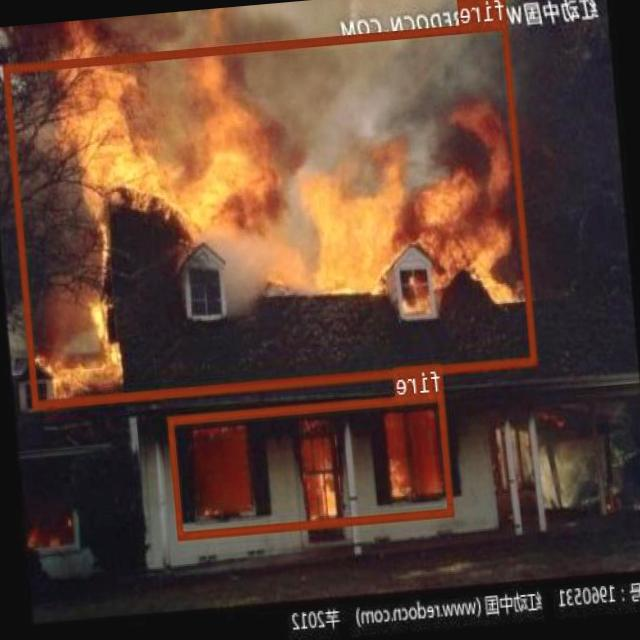fire: (4, 20, 538, 408), (168, 390, 454, 540)
